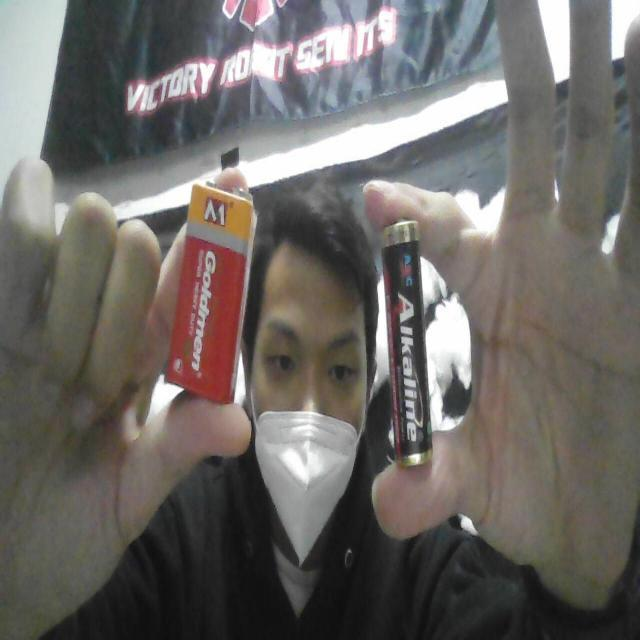9V: (160, 156, 264, 418)
AAA: (374, 196, 434, 488)
